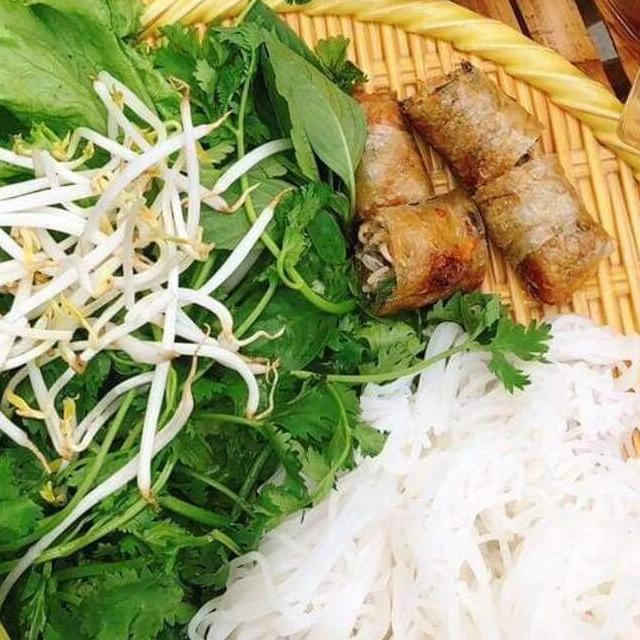bun: (173, 302, 640, 640)
cha gio: (451, 141, 627, 306), (394, 47, 557, 193), (342, 180, 499, 317), (327, 71, 445, 214)
